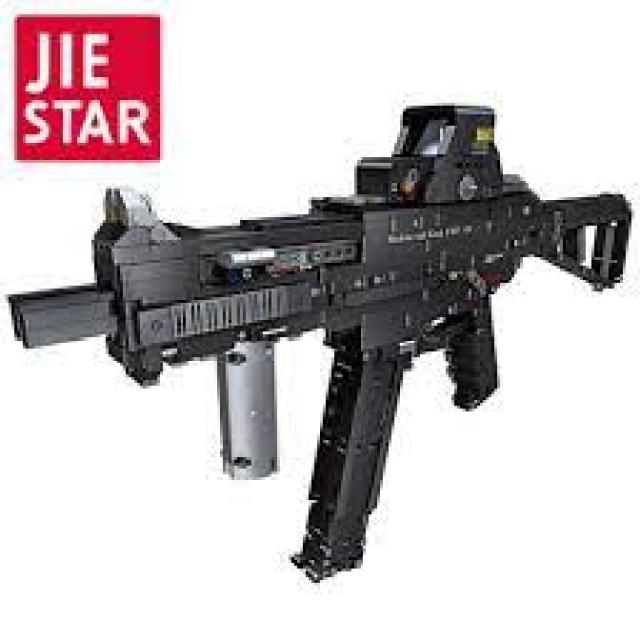Gun: (25, 84, 622, 590)
